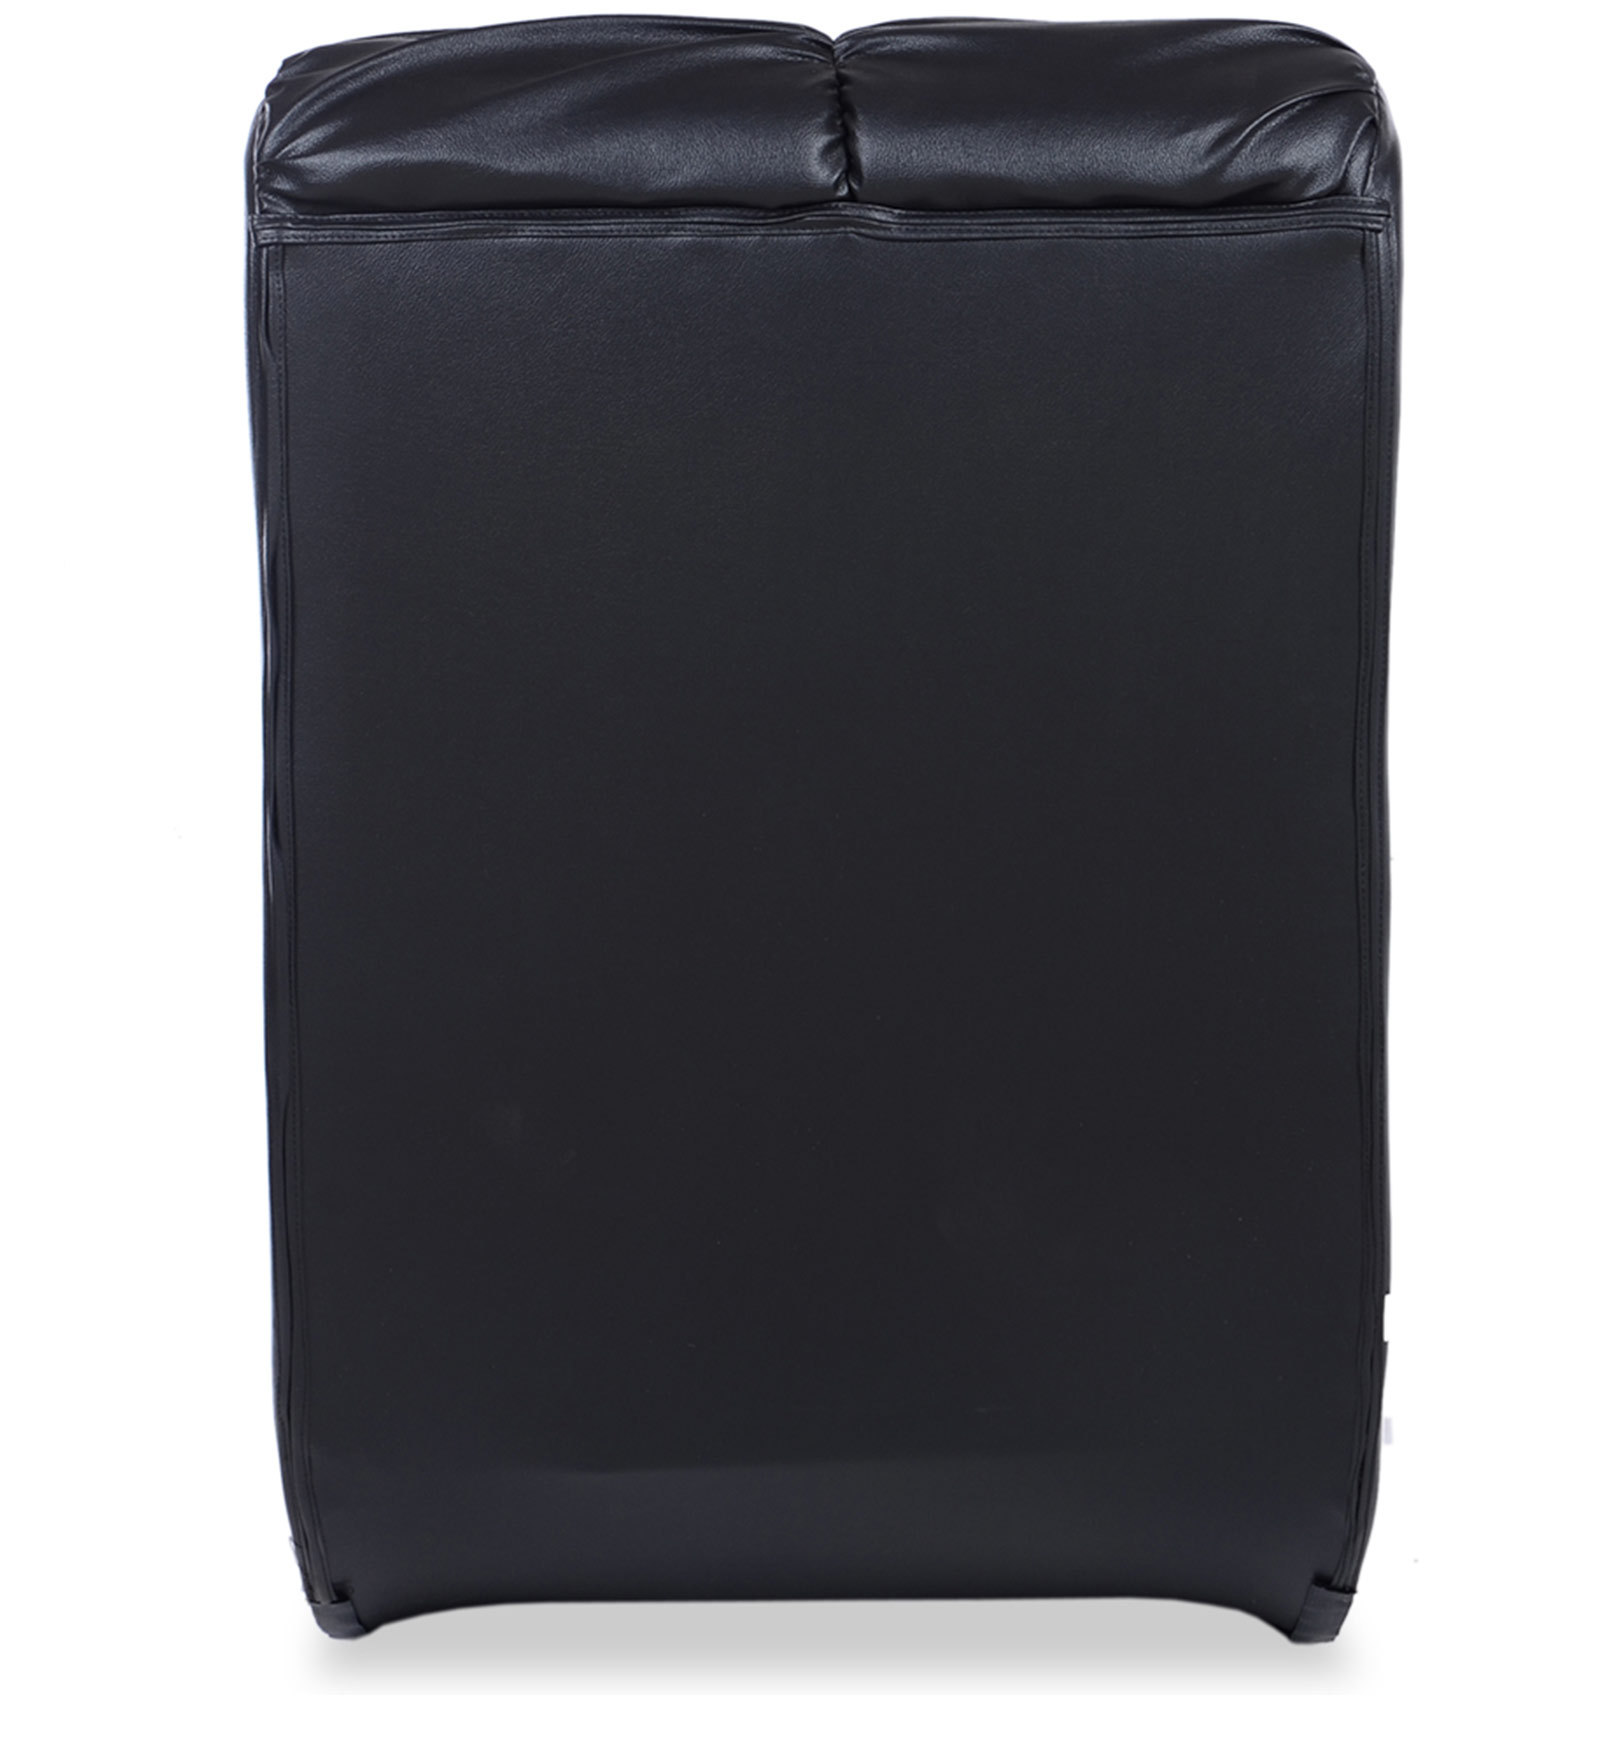Low Seat Rocking Chair in Black Leatherette by Durian: (221, 12, 1408, 1671)
